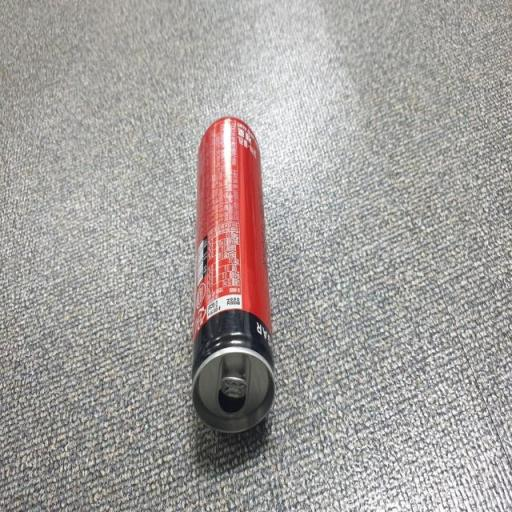metal: (184, 108, 284, 462)
